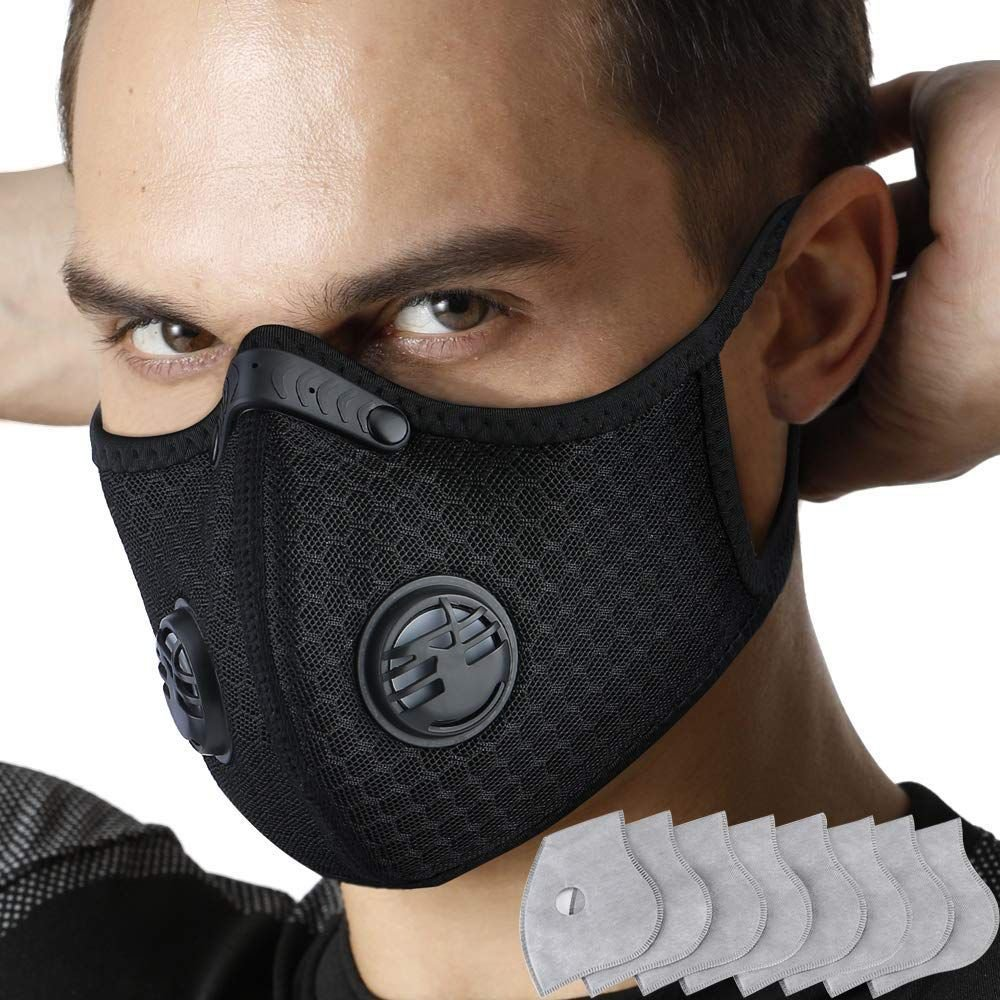mask: (32, 4, 969, 881)
